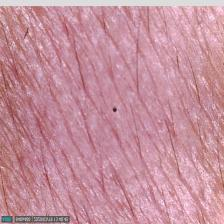Normal: (0, 8, 224, 213)
